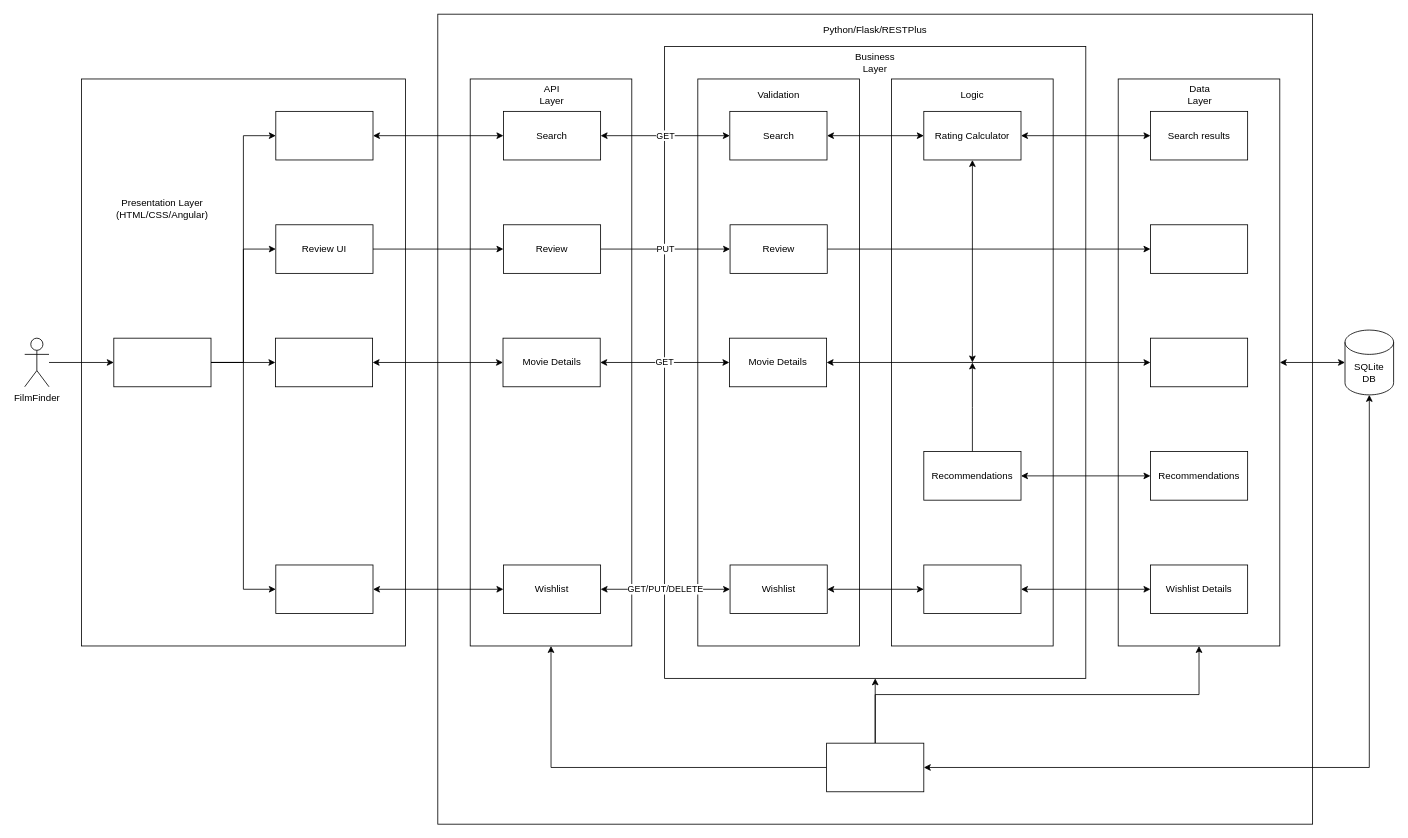
Some shapes in this 1408 by 838 pixel diagram are drawn without their labels. Here are the shapes that lost their labels. From the top down, the box of each, then its label:
(275, 111, 373, 160): Search UI
(1150, 224, 1248, 273): Review Collection
(113, 337, 211, 387): Authentication Service
(275, 337, 373, 387): Movie Details UI
(1150, 337, 1248, 387): Full Movie Details
(275, 564, 373, 614): Wishlist UI
(923, 564, 1021, 614): User Subscription
(826, 742, 924, 792): Logging
